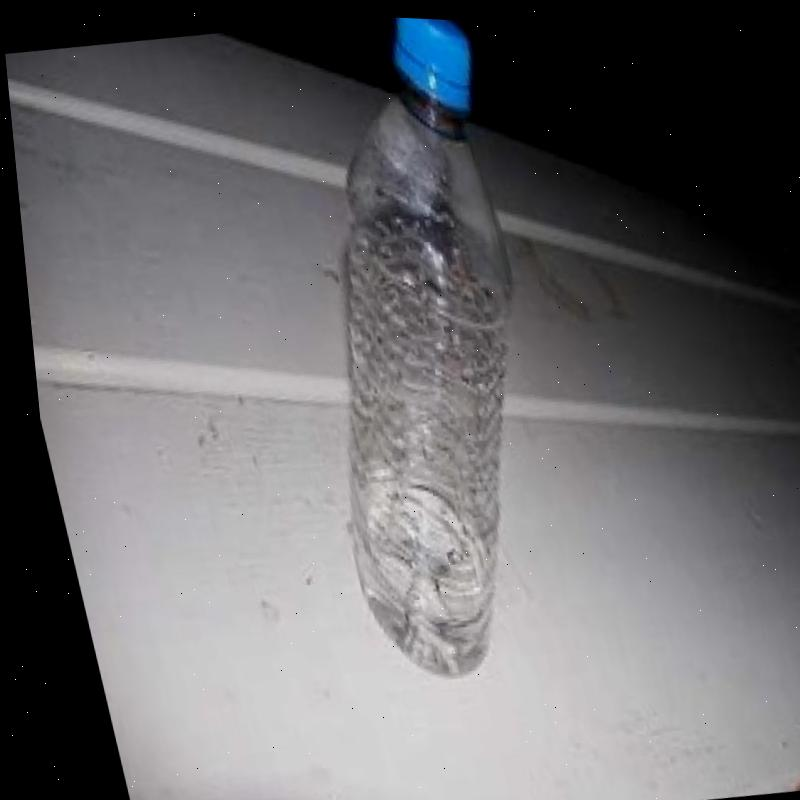botella: (210, 7, 610, 696)
